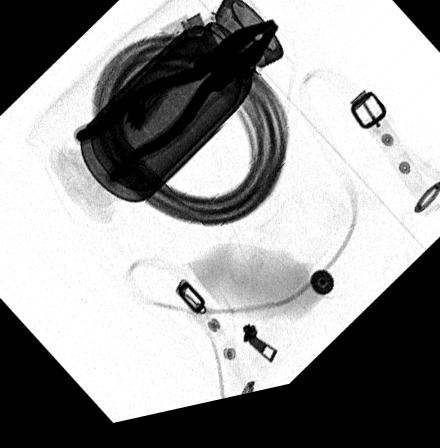Pliers: (69, 27, 278, 190)
